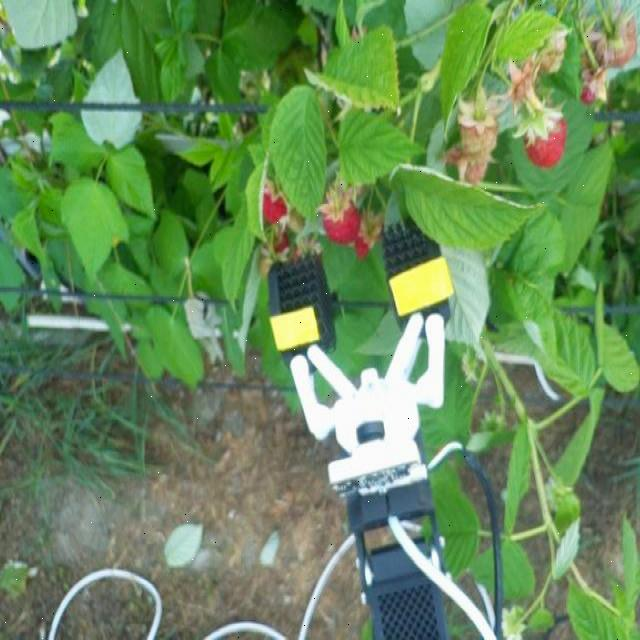Riped berries: (521, 103, 571, 171), (322, 188, 358, 235), (257, 179, 293, 221), (356, 211, 382, 263)
